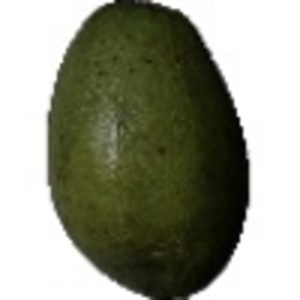abacate: (44, 1, 248, 299)
